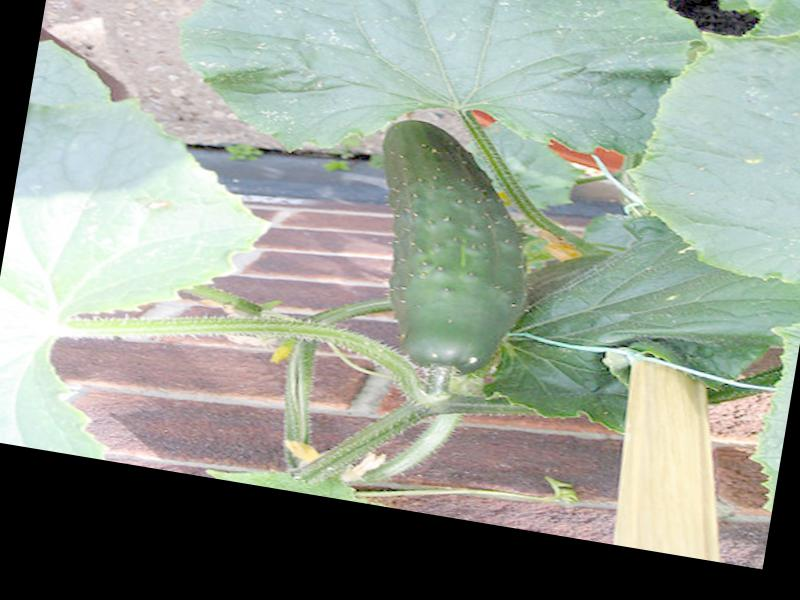Cucumber: (343, 114, 549, 382)
